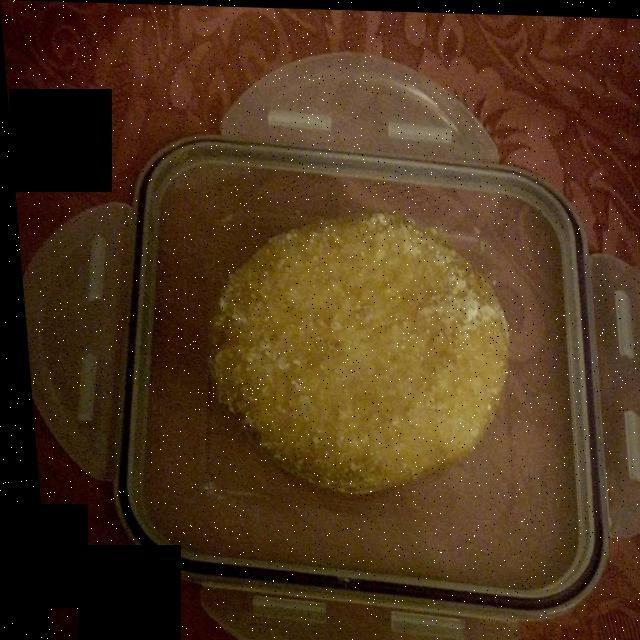biscuits: (220, 211, 520, 490)
